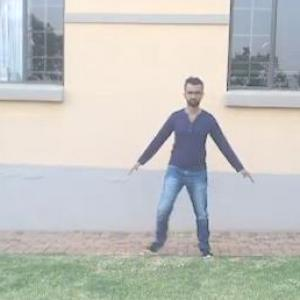land: (123, 76, 265, 262)
